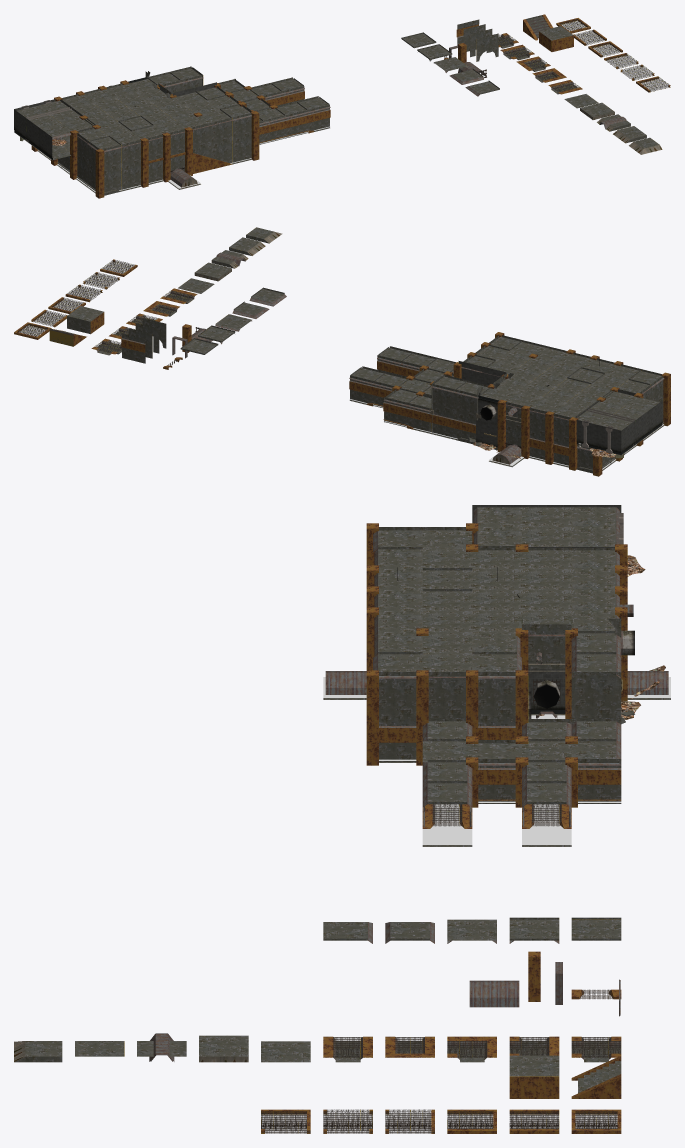
File: ModularSewerKit.fbx_MockUp.fbx
3 views of the same model, one above another, from view 1: azimuth 30°, elevation 25°; view 2: azimuth 150°, elevation 25°; view 3: azimuth 270°, elevation 25° (orthographic). The views are drawn at different scales.
Parts seen in each view (by area): view 1: Floor011.002, Wall001.027, Wall002.026, Wall002.023, Wall002.025, Stairs001.002, Wall001.021, Wall001.037, Wall001.041, Wall001.020, Wall003.003, Wall001.022 (+40 smaller); view 2: Floor011.002, Wall002.003, Wall002.008, Wall001.011, Wall002.016, Wall002.029, Wall002.018, Wall001.010, Wall004.011, Wall002.007, Wall004.001, Wall004.012 (+22 smaller); view 3: Floor011.002, Wall001.012, Wall002.017, Wall001.014, Wall002.006, Wall001.018, Wall001.017, Wall001.019, Wall002.011, Stairs001.002, PlugWall003.003, Floor009.003 (+65 smaller).
Part boxes in pixels (x1=…): Floor011.002: x1=539, y1=26, x2=573, y2=51; Wall001.027: x1=210, y1=117, x2=232, y2=145; Wall002.026: x1=263, y1=115, x2=286, y2=143; Wall002.023: x1=285, y1=110, x2=308, y2=138; Wall002.025: x1=308, y1=104, x2=330, y2=132; Stairs001.002: x1=523, y1=14, x2=553, y2=40; Wall001.021: x1=232, y1=136, x2=251, y2=163; Wall001.037: x1=121, y1=163, x2=140, y2=190; Wall001.041: x1=121, y1=140, x2=140, y2=167; Wall001.020: x1=232, y1=113, x2=251, y2=140; Wall003.003: x1=476, y1=33, x2=498, y2=61; Wall001.022: x1=210, y1=141, x2=232, y2=163; Floor011.002: x1=67, y1=306, x2=104, y2=334; Wall002.003: x1=121, y1=333, x2=145, y2=363; Wall002.008: x1=431, y1=409, x2=455, y2=438; Wall001.011: x1=431, y1=384, x2=455, y2=414; Wall002.016: x1=383, y1=397, x2=407, y2=427; Wall002.029: x1=349, y1=375, x2=373, y2=405; Wall002.018: x1=407, y1=403, x2=431, y2=433; Wall001.010: x1=455, y1=389, x2=478, y2=419; Wall004.011: x1=597, y1=425, x2=621, y2=455; Wall002.007: x1=454, y1=414, x2=478, y2=440; Wall004.001: x1=476, y1=420, x2=497, y2=447; Wall004.012: x1=576, y1=420, x2=597, y2=448; Floor011.002: x1=509, y1=1055, x2=559, y2=1098; Wall001.012: x1=571, y1=672, x2=621, y2=716; Wall002.017: x1=578, y1=759, x2=621, y2=803; Wall001.014: x1=522, y1=624, x2=571, y2=669; Wall002.006: x1=379, y1=717, x2=416, y2=761; Wall001.018: x1=428, y1=672, x2=465, y2=716; Wall001.017: x1=478, y1=672, x2=515, y2=716; Wall001.019: x1=379, y1=672, x2=416, y2=716; Wall002.011: x1=478, y1=759, x2=515, y2=803; Stairs001.002: x1=571, y1=1056, x2=621, y2=1098; PlugWall003.003: x1=469, y1=980, x2=519, y2=1007; Floor009.003: x1=199, y1=1035, x2=248, y2=1062.
Size of the model in its own units: 10200 by 1050 by 5290.
